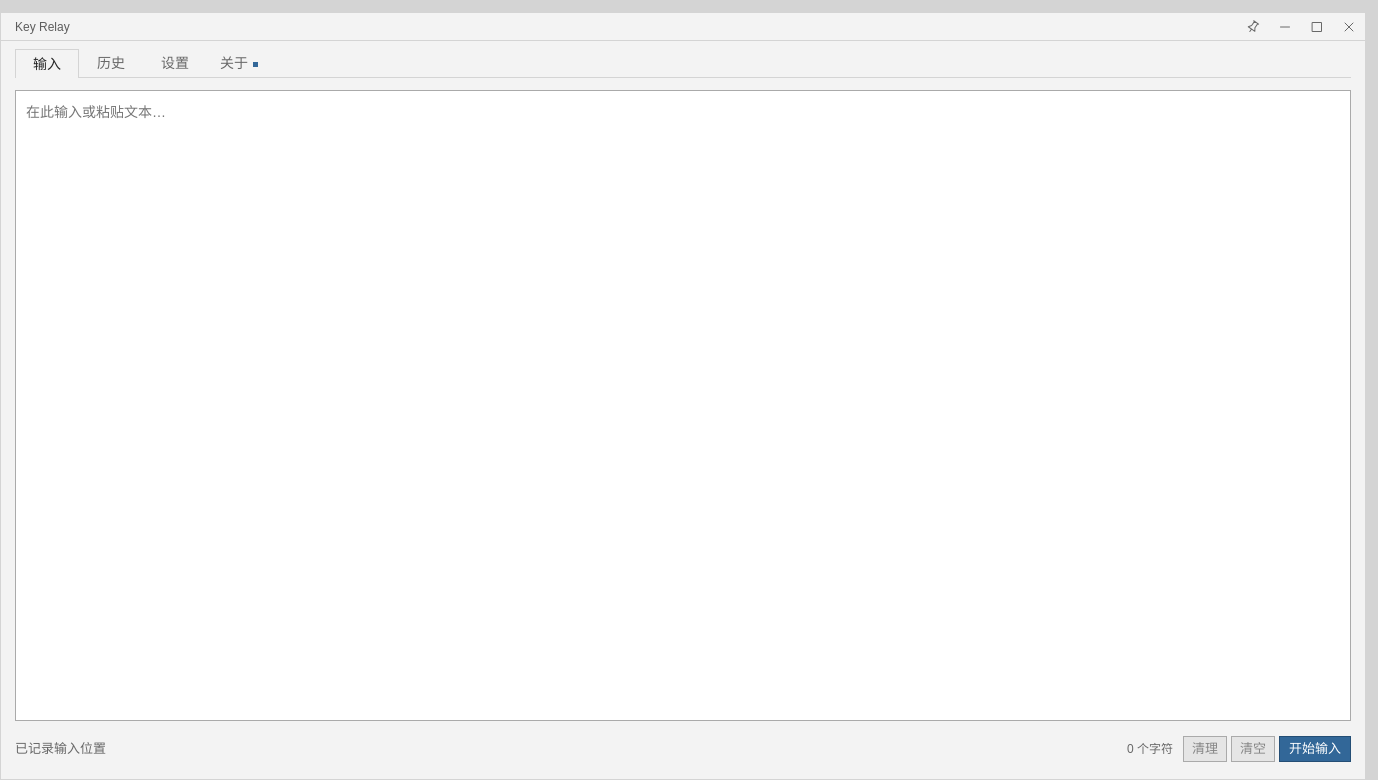
Test: editor and native task integration › keeps the app and pending update when saving the latest text fails before installation
Expected: the button "开始输入" is enabled, [1279, 736, 1351, 762]
Click the tab "关于".
click(239, 63)  # box [207, 49, 271, 77]
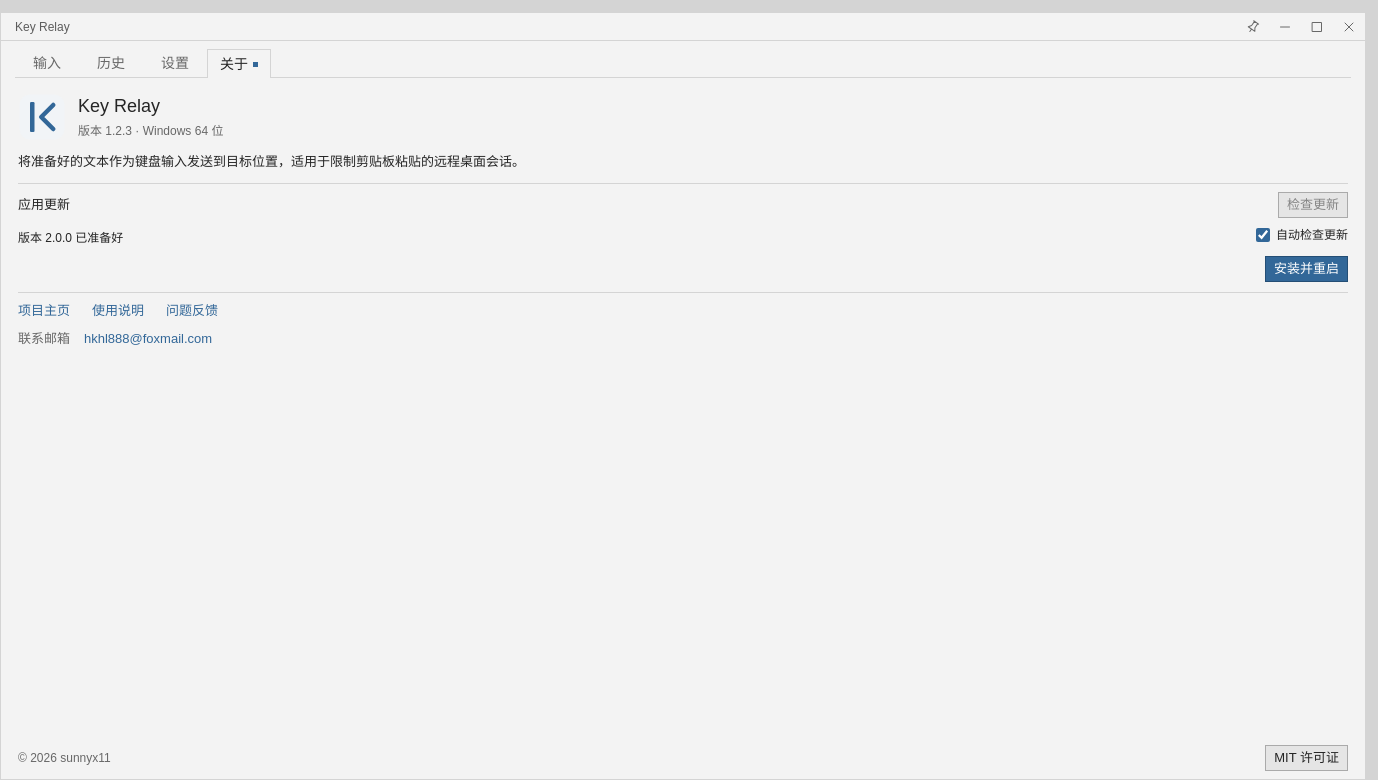
Click the button "安装并重启".
click(1306, 270)  # box [1265, 256, 1348, 282]
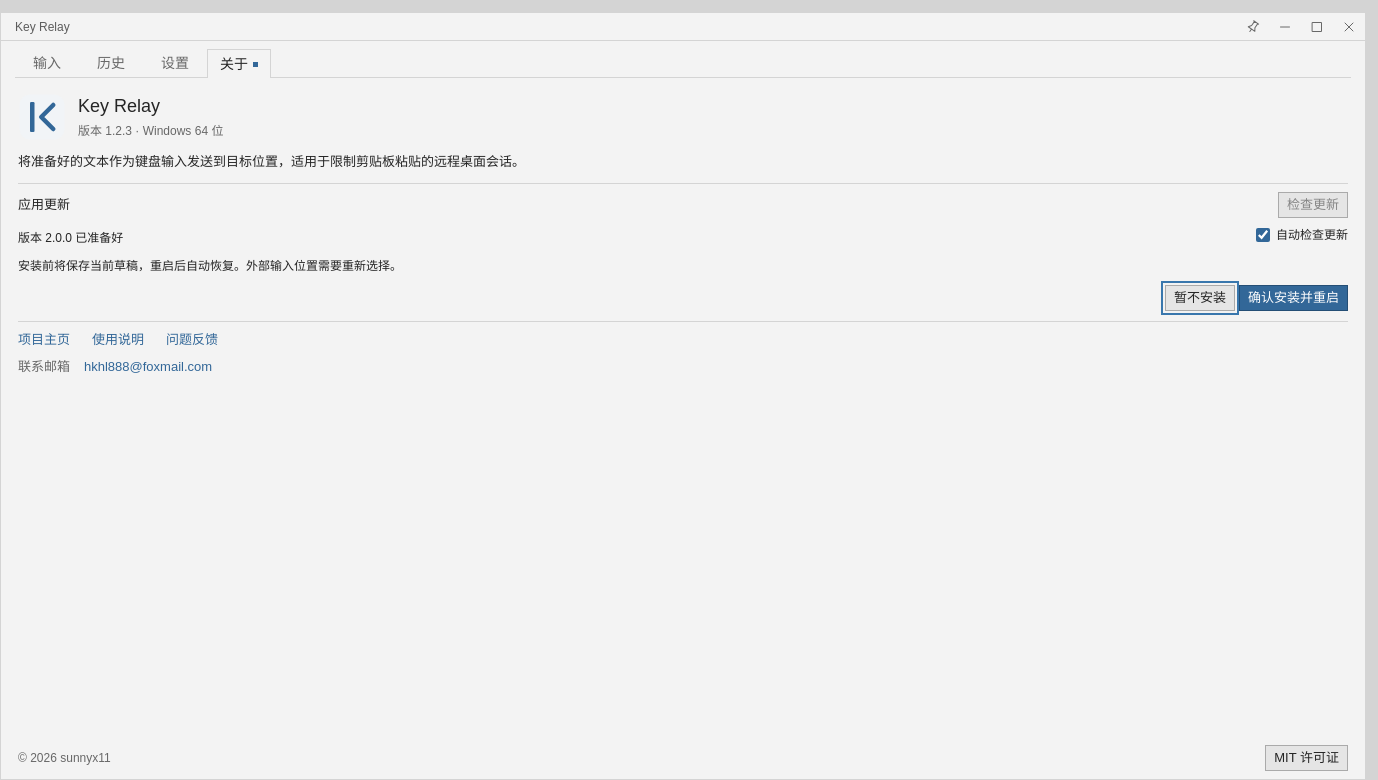
Click the button "确认安装并重启".
click(1294, 298)  # box [1239, 285, 1348, 311]
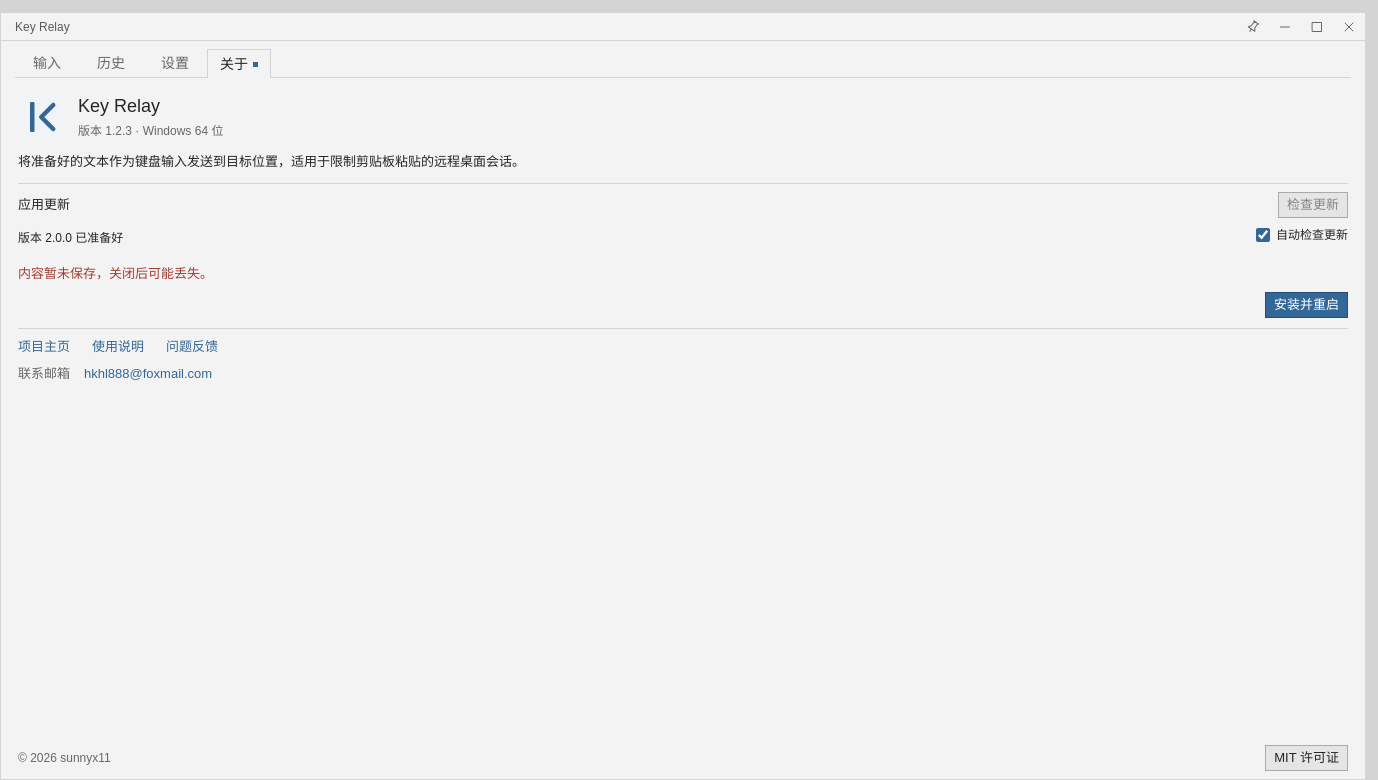
Expected: the button "安装并重启" is enabled, [1265, 292, 1348, 318]
Expected: the text "内容暂未保存，关闭后可能丢失。" is shown, [18, 264, 213, 284]
